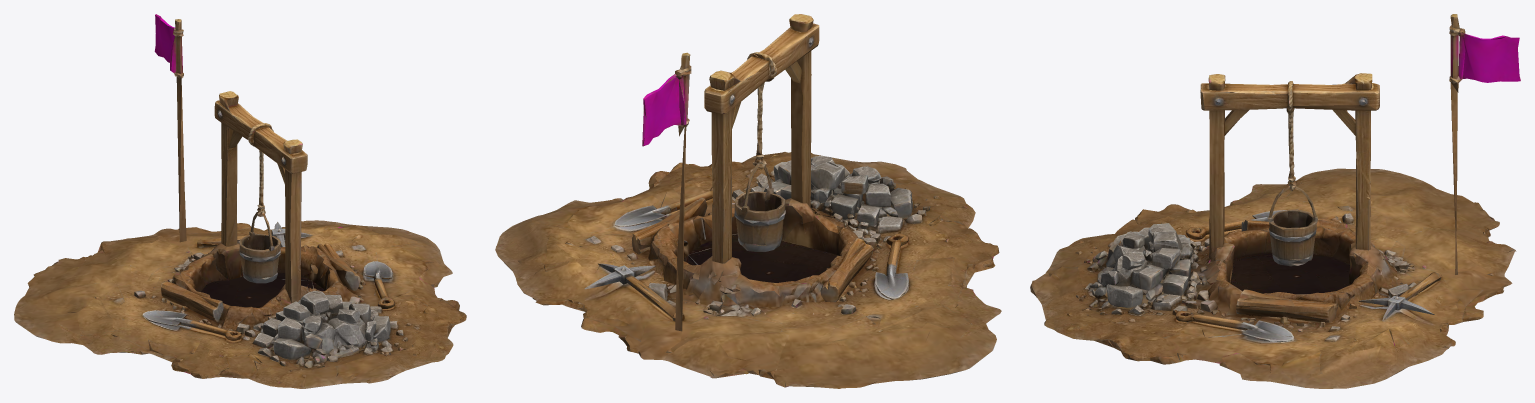
Rendered from stone_mine.glb.
The picture shows the model from 3 angles, left to right: view 1: azimuth 30°, elevation 25°; view 2: azimuth 150°, elevation 25°; view 3: azimuth 270°, elevation 25°; orthographic projection. The views are drawn at different scales.
Visible parts, largest first — view 1: Mesh_0; view 2: Mesh_0; view 3: Mesh_0.
Boxes of the visible parts, left/top/right/bottom form: Mesh_0: left=14, top=14, right=466, bottom=388; Mesh_0: left=495, top=14, right=1001, bottom=388; Mesh_0: left=1030, top=14, right=1520, bottom=388.
Bounding box in the file's own units: 1.79 × 0.9983 × 1.68.
Materials: 1 (1 with a texture image).
